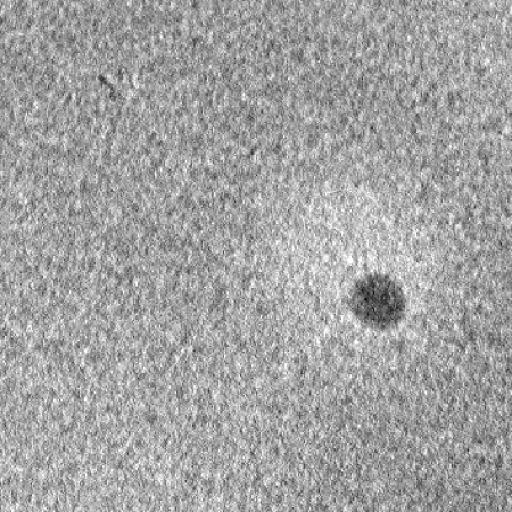Nanoparticles: (345, 269, 411, 335)
